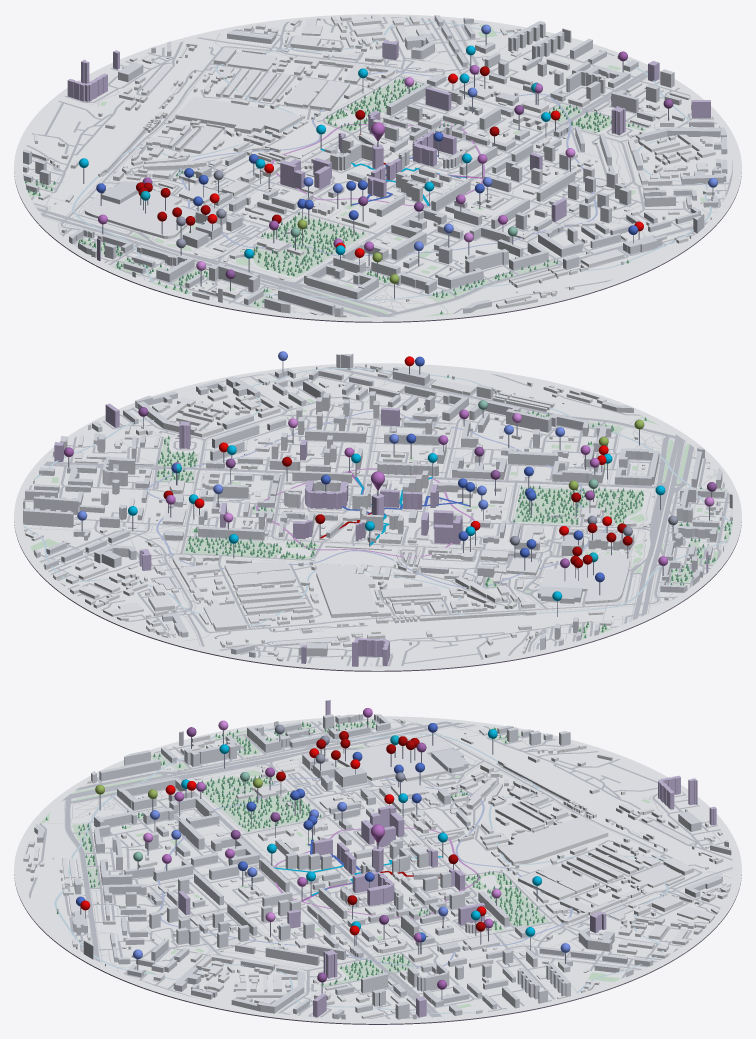
The picture shows the model from 3 angles, top to bottom: view 1: azimuth 30°, elevation 25°; view 2: azimuth 150°, elevation 25°; view 3: azimuth 270°, elevation 25°; orthographic projection.
Parts seen in each view (by area): view 1: plate_top, bld_wall_mid, roads, bld_roof_lo, bld_wall_lo, bld_roof_mid, roads_path, green, bld_wall_hi, trees, iso_15, pin_stem (+7 smaller); view 2: plate_top, bld_wall_mid, roads, bld_roof_lo, bld_wall_lo, bld_roof_mid, roads_path, green, bld_wall_hi, trees, iso_15, pin_stem (+7 smaller); view 3: plate_top, bld_wall_mid, roads, bld_roof_lo, bld_wall_lo, bld_roof_mid, roads_path, green, bld_wall_hi, trees, iso_15, pin_stem (+8 smaller).
Boxes of the visible parts, x1,y1,x2,y2 form: plate_top: (14,14,741,321); bld_wall_mid: (23,15,727,317); roads: (25,17,732,316); bld_roof_lo: (32,15,718,316); bld_wall_lo: (32,15,718,317); bld_roof_mid: (23,15,727,308); roads_path: (30,19,732,317); green: (24,24,705,317); bld_wall_hi: (67,40,710,260); trees: (25,77,643,314); iso_15: (72,20,711,300); pin_stem: (83,34,713,299); plate_top: (14,363,741,670); bld_wall_mid: (23,354,732,657); roads: (25,366,729,666); bld_roof_lo: (24,364,732,659); bld_wall_lo: (24,364,732,661); bld_roof_mid: (23,353,732,652); roads_path: (27,368,731,666); green: (30,377,732,639); bld_wall_hi: (54,405,708,666); trees: (157,374,732,638); iso_15: (23,368,732,625); pin_stem: (68,361,712,616); plate_top: (14,716,741,1023); bld_wall_mid: (34,714,731,1019); roads: (28,719,732,1019); bld_roof_lo: (23,719,730,1016); bld_wall_lo: (23,720,730,1018); bld_roof_mid: (34,714,731,1014); roads_path: (42,719,732,1017); green: (41,721,650,1008); bld_wall_hi: (178,700,716,1017); trees: (45,720,545,985); iso_15: (54,729,668,1013); pin_stem: (80,717,565,1000).
Size of the model in its own units: 1.02 by 0.0715 by 1.02.
